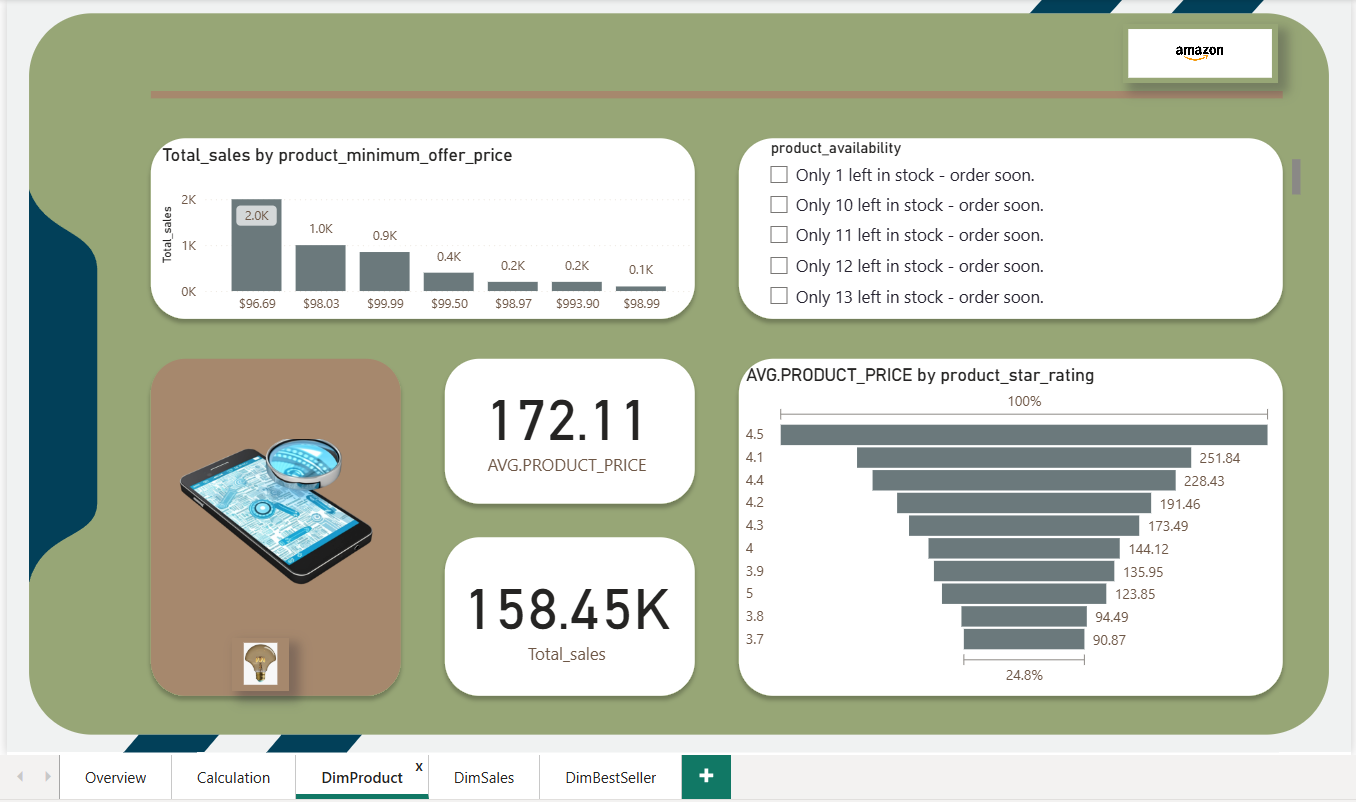

What the dashboard file says about the page in this screenshot:
{"tool":"powerbi","page":{"name":"DimProduct","canvas":[1280,720],"ordinal":2},"visuals":[{"type":"card","fields":{"Values":["Phone search.AVG.PRODUCT_PRICE"]},"box":[437.7,330.7,190.7,148.2],"z":0},{"type":"card","fields":{"Values":["Phone search.Total_sales"]},"box":[417.2,511.8,233.3,146.8],"z":1000},{"type":"lineClusteredColumnComboChart","fields":{"Y":["Phone search.Total_sales"],"Category":["DimProduct.product_minimum_offer_price"]},"box":[142.9,138.1,515.5,170.2],"z":2000},{"type":"funnel","fields":{"Category":["DimProduct.product_star_rating"],"Y":["Phone search.AVG.PRODUCT_PRICE"]},"box":[698.8,347.6,511.9,310.7],"z":3000},{"type":"slicer","fields":{"Values":["DimProduct.product_availability"]},"box":[714.3,128.6,522.6,170.2],"z":4000},{"type":"image","box":[134.5,414.4,241.5,150.9],"z":5000},{"type":"image","box":[214.3,608.3,54.8,50],"z":6000},{"type":"image","box":[1063.5,23.3,146.8,56.3],"z":7000}]}

Visuals, with their boxes on the page's 1280x720 design canvas (x1, y1, x2, y2). These are canvas units, not pixel positions in the 1356x802 screenshot, which may show the page scaled, cropped or inside an application window:
card - Phone search.AVG.PRODUCT_PRICE: select_region(438, 331, 628, 479)
card - Phone search.Total_sales: select_region(417, 512, 650, 659)
lineClusteredColumnComboChart - Phone search.Total_sales x DimProduct.product_minimum_offer_price: select_region(143, 138, 658, 308)
funnel - DimProduct.product_star_rating x Phone search.AVG.PRODUCT_PRICE: select_region(699, 348, 1211, 658)
slicer - DimProduct.product_availability: select_region(714, 129, 1237, 299)
image: select_region(134, 414, 376, 565)
image: select_region(214, 608, 269, 658)
image: select_region(1064, 23, 1210, 80)
